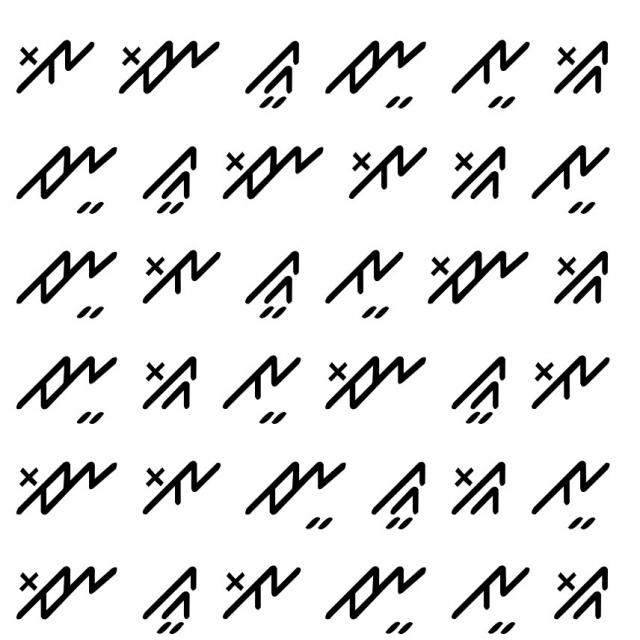ah: (214, 351, 309, 433), (526, 455, 617, 539), (528, 141, 617, 221), (438, 560, 530, 636), (449, 28, 533, 110), (318, 245, 406, 322)
nggah: (366, 448, 434, 533), (240, 31, 310, 113), (136, 560, 207, 639), (444, 348, 512, 430), (240, 244, 310, 323), (141, 140, 207, 215)
nggo: (547, 238, 618, 316), (548, 28, 618, 101), (446, 450, 512, 523), (547, 554, 613, 624), (139, 345, 203, 415), (444, 140, 509, 205)
njah: (9, 131, 123, 222), (15, 239, 120, 330), (240, 452, 349, 539), (321, 28, 430, 115), (12, 348, 125, 431), (321, 552, 428, 638)
njo: (9, 547, 121, 631), (9, 444, 124, 522), (114, 26, 225, 103), (420, 235, 529, 312), (216, 138, 326, 210), (323, 344, 431, 416)
o: (525, 343, 617, 420), (8, 30, 101, 101), (135, 235, 222, 309), (214, 556, 304, 627), (338, 134, 430, 203), (136, 448, 222, 518)
